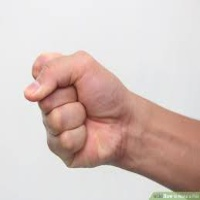ring: (32, 103, 90, 135)
